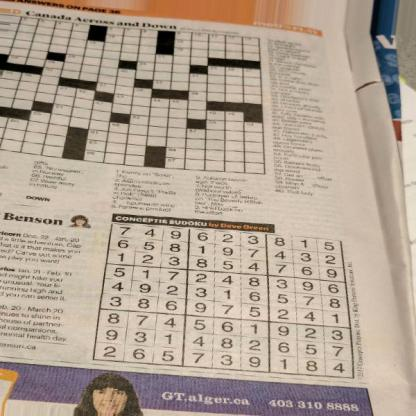sudoku: (92, 220, 356, 381)
